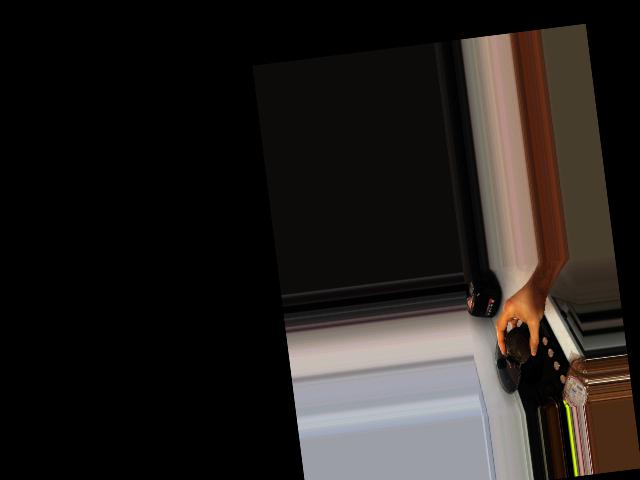beet: (502, 323, 533, 369)
